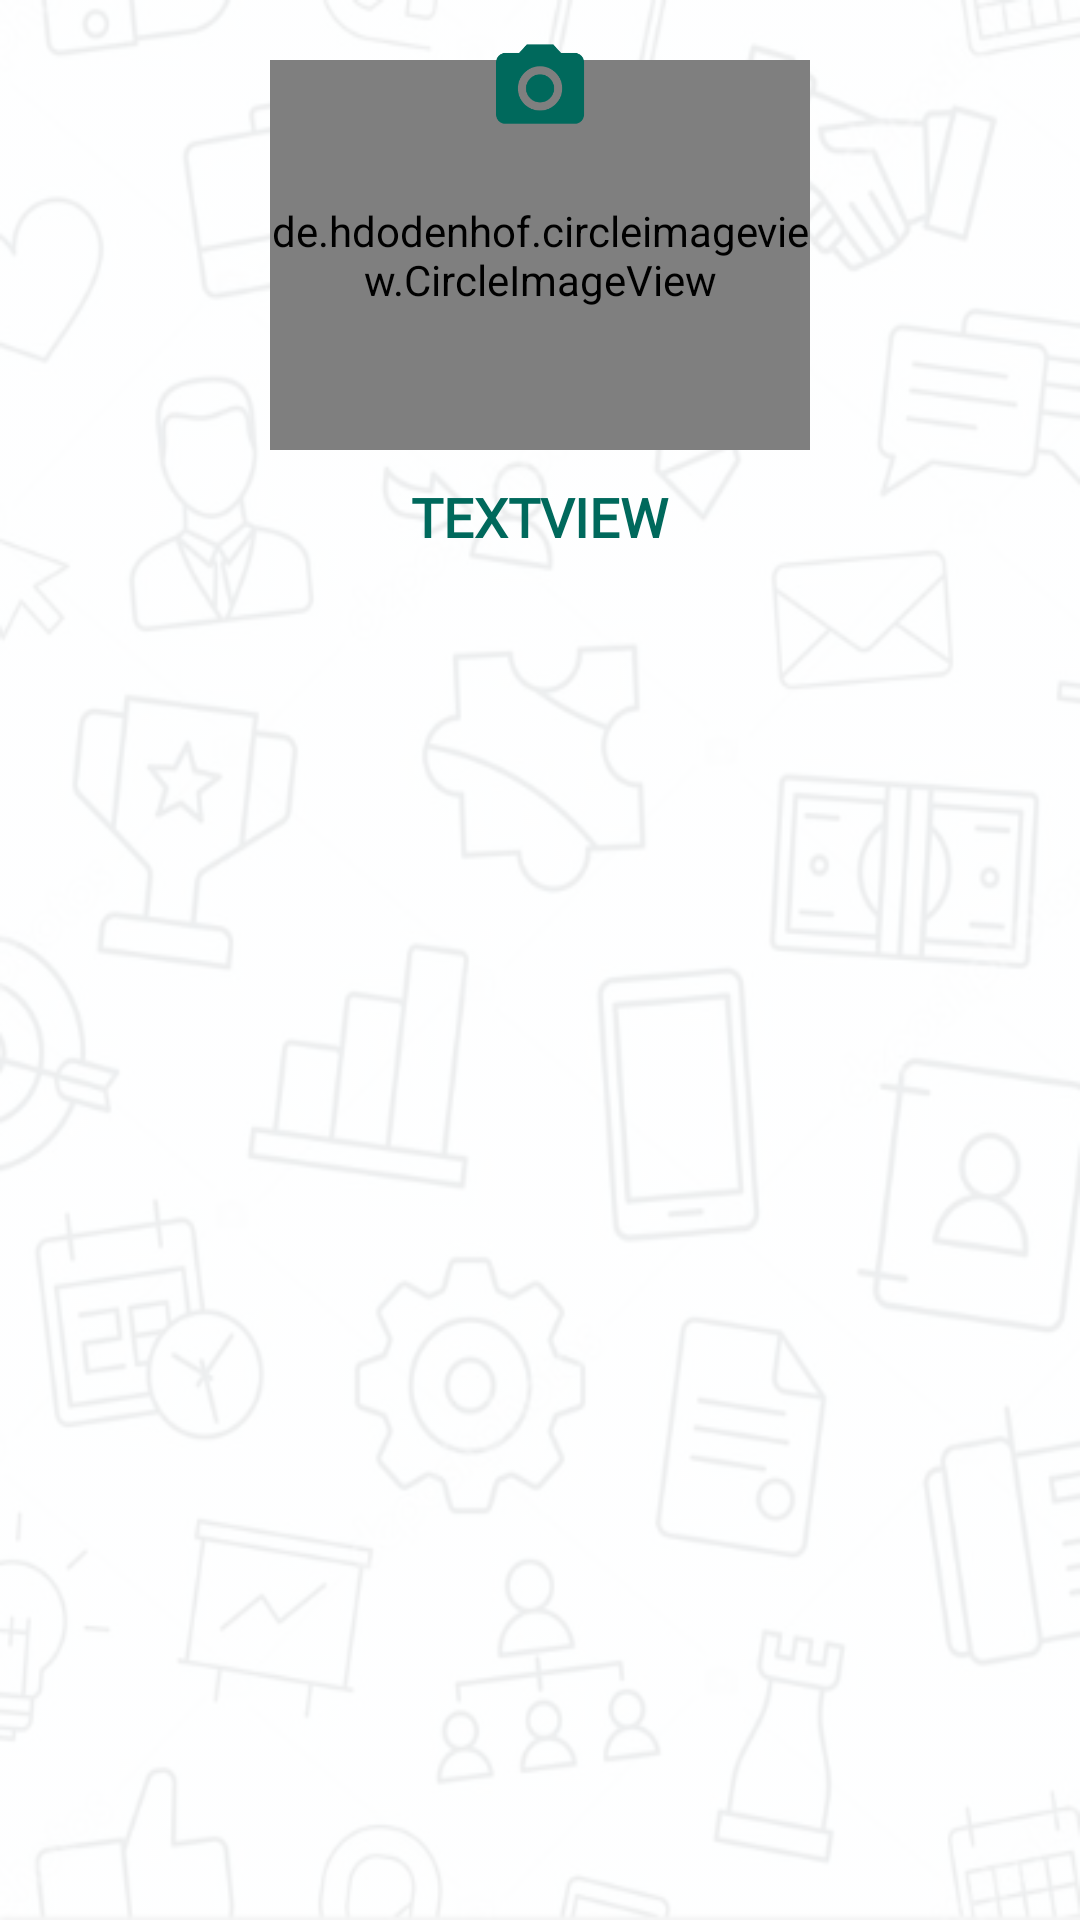

Point at icon controls on the screen. Image size 1080px×1920px, points as (x,y).
camera: (540,84)
